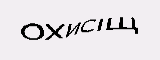І: (96, 16, 104, 33)
И: (65, 21, 80, 37)
О: (20, 21, 43, 41)
С: (79, 16, 95, 34)
Х: (43, 21, 65, 40)
Щ: (106, 14, 141, 34)
